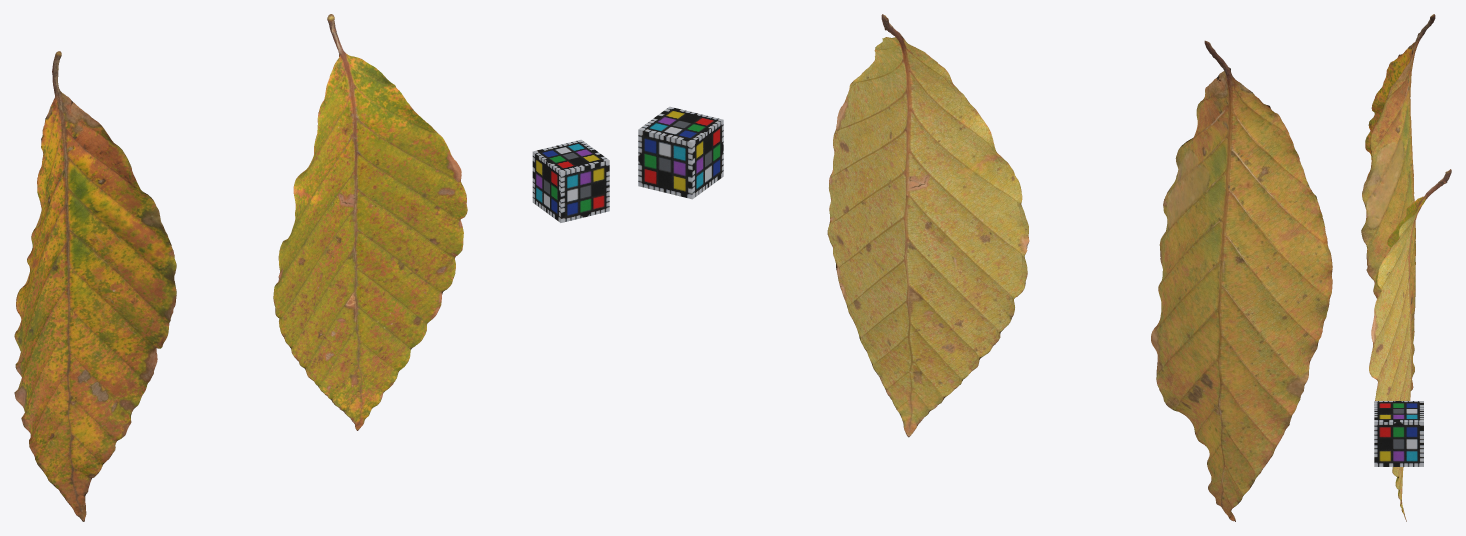
The model's file is cc0__japanese_beech_fagus_crenata.glb.
3 views of the same model, side by side, from view 1: azimuth 30°, elevation 25°; view 2: azimuth 150°, elevation 25°; view 3: azimuth 270°, elevation 25° (orthographic). The views are drawn at different scales.
Visible parts, largest first — view 1: QS1598-W03-2-1_2, QS1598-W03-1-1_1, _Cube_0; view 2: QS1598-W03-2-1_2, QS1598-W03-1-1_1, _Cube_0; view 3: QS1598-W03-1-1_1, QS1598-W03-2-1_2, _Cube_0.
Part boxes in pixels (box(x1,y1,x2,y2)): QS1598-W03-2-1_2: box(273, 14, 467, 430); QS1598-W03-1-1_1: box(14, 51, 176, 521); _Cube_0: box(532, 139, 609, 222); QS1598-W03-2-1_2: box(827, 14, 1029, 437); QS1598-W03-1-1_1: box(1151, 40, 1332, 521); _Cube_0: box(638, 106, 723, 199); QS1598-W03-1-1_1: box(1361, 14, 1435, 390); QS1598-W03-2-1_2: box(1369, 169, 1451, 521); _Cube_0: box(1374, 401, 1423, 466).
Bounding box in the file's own units: 0.1219 × 0.0884 × 0.0182.
Materials: 3 (3 with a texture image).
